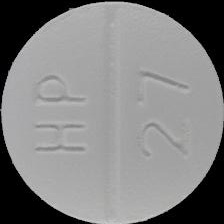23155-027: (0, 0, 224, 224)
